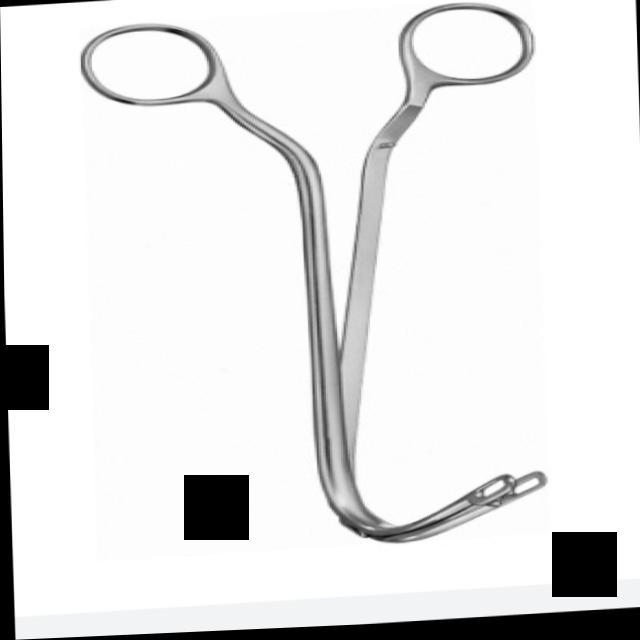Randall: (66, 0, 564, 564)
